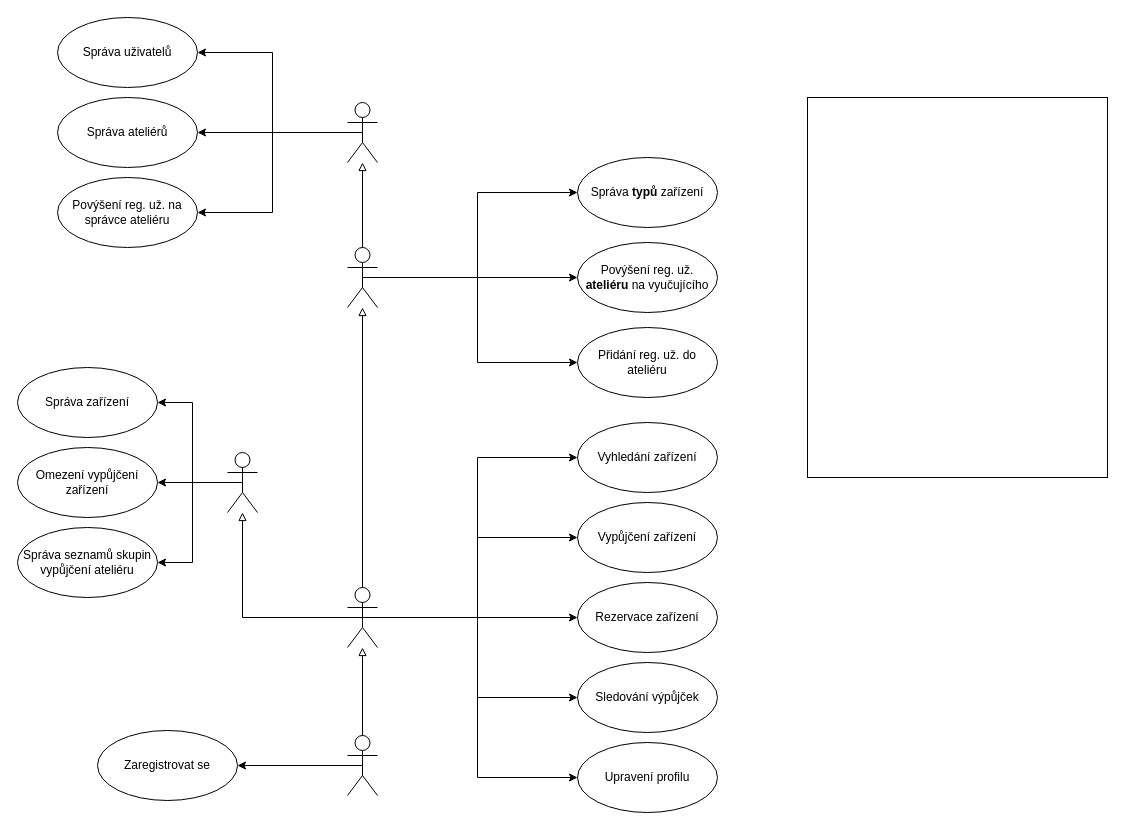
Image size: 1125x834. Some labels were removed from this diagram. Each missing label, with the box of its shape:
Administrátor: (346, 102, 378, 162)
Neregistrovaný uživatel: (346, 734, 378, 796)
Otázky: (806, 96, 1108, 478)
Registrovaný uživatel: (346, 586, 378, 648)
Správce ateliéru: (346, 246, 378, 308)
Vyučující: (226, 452, 258, 512)
